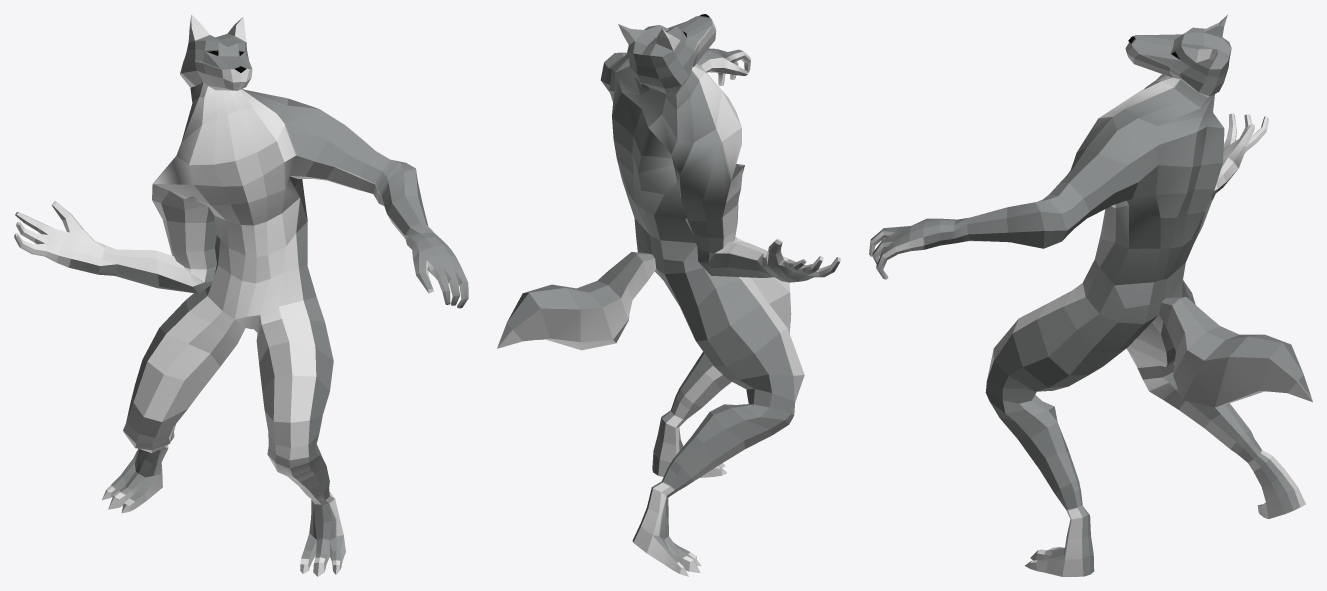
Rendered from WolfDead(8).obj.
3 views of the same model, side by side, from view 1: azimuth 30°, elevation 25°; view 2: azimuth 150°, elevation 25°; view 3: azimuth 270°, elevation 25° (orthographic). The views are drawn at different scales.
Parts seen in each view (by area): view 1: Box001; view 2: Box001; view 3: Box001.
Boxes of the visible parts, x1,y1,x2,y2 form: Box001: [14, 14, 468, 576]; Box001: [497, 14, 840, 576]; Box001: [869, 14, 1312, 576].
Size of the model in its own units: 94.32 by 144 by 110.
